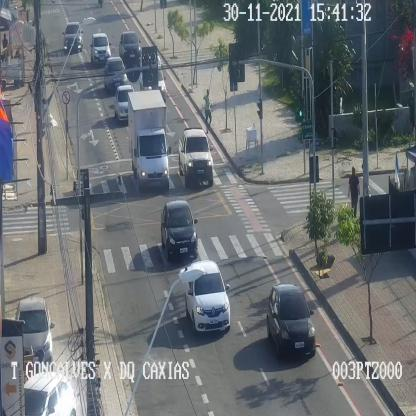car: (266, 282, 317, 360), (186, 258, 231, 335), (16, 296, 56, 359), (23, 370, 77, 416), (179, 127, 216, 190), (161, 201, 198, 261), (103, 57, 127, 93), (113, 84, 134, 122), (118, 30, 142, 61), (62, 22, 83, 52), (90, 33, 110, 62)
person: (348, 166, 360, 220), (204, 90, 212, 134)
truck: (127, 90, 172, 193)
